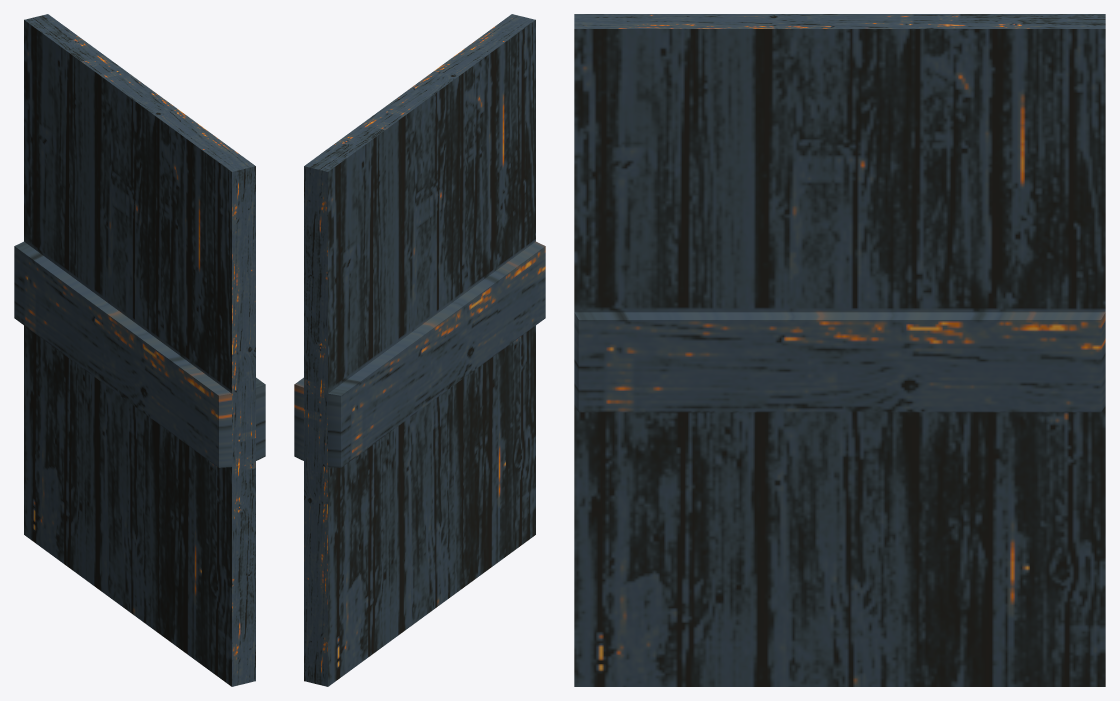
The model's file is barnDoor_L.fbx.
The picture shows the model from 3 angles, left to right: view 1: azimuth 30°, elevation 25°; view 2: azimuth 150°, elevation 25°; view 3: azimuth 270°, elevation 25°; orthographic projection. The views are drawn at different scales.
Visible parts, largest first — view 1: door_L; view 2: door_L; view 3: door_L.
Boxes of the visible parts, box(x1,y1,x2,y2) form: door_L: box(14, 14, 265, 686); door_L: box(294, 14, 545, 686); door_L: box(574, 14, 1105, 686).
Bounding box in the file's own units: 0.3887 × 4.1 × 3.
